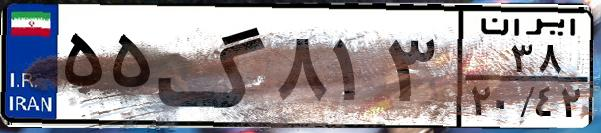0: (495, 70, 520, 125)
1: (330, 28, 385, 110)
2: (560, 70, 590, 125), (470, 70, 495, 125)
3: (385, 28, 445, 110), (508, 27, 537, 80)
4: (535, 70, 560, 125)
5: (57, 26, 110, 100), (110, 28, 156, 98)
8: (270, 28, 330, 110), (537, 27, 568, 80)
گ: (156, 12, 270, 120)
